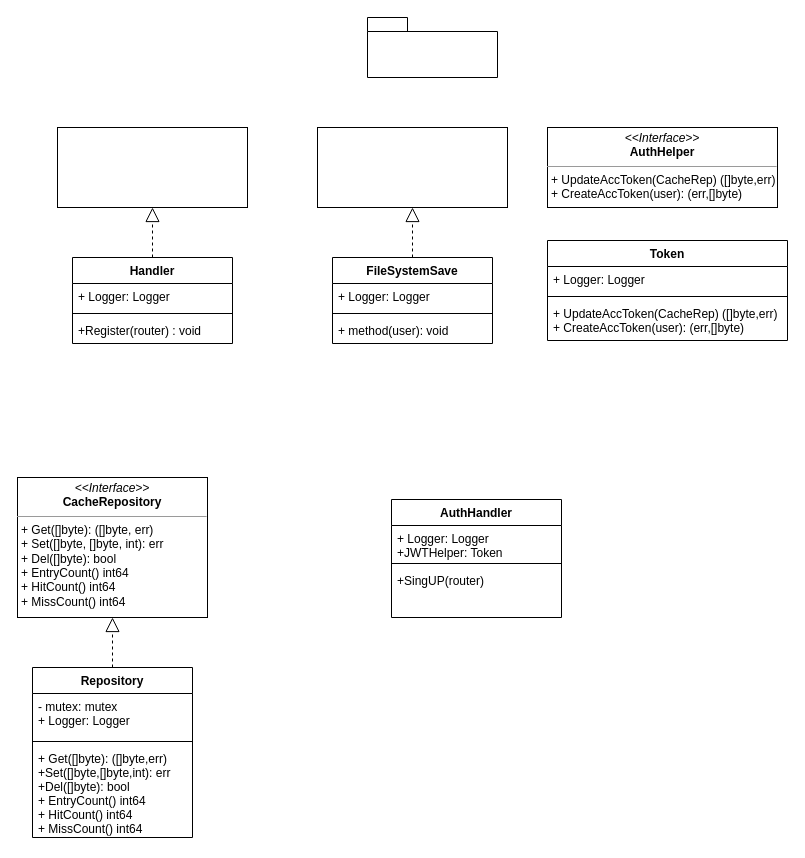
This 805x858 diagram has some shape labels left out. Each missing label, with the centre of its shape:
"<<Interface>> RegisterHandler + Register(router): void" belongs at pixel 152 167.
"<<Interface>> Saver + Save(user): void" belongs at pixel 412 167.
"GetExchangeRate" belongs at pixel 432 47.
